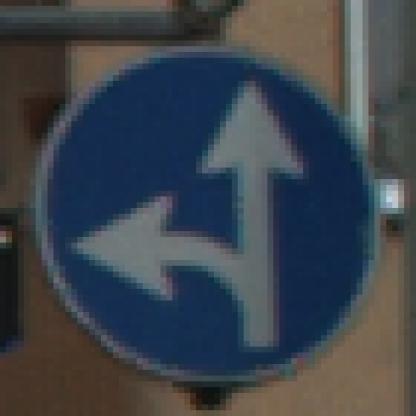Straight or Left: (37, 36, 375, 382)
